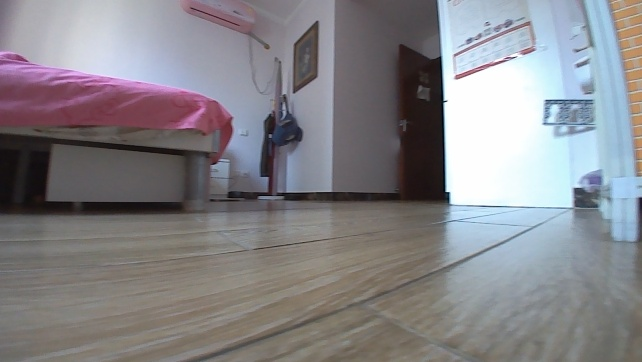bed1: (0, 48, 235, 215)
